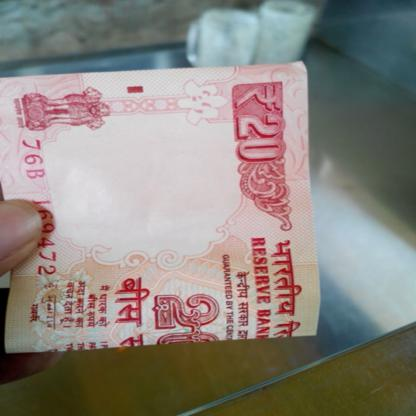Old20Front: (1, 75, 306, 341)
